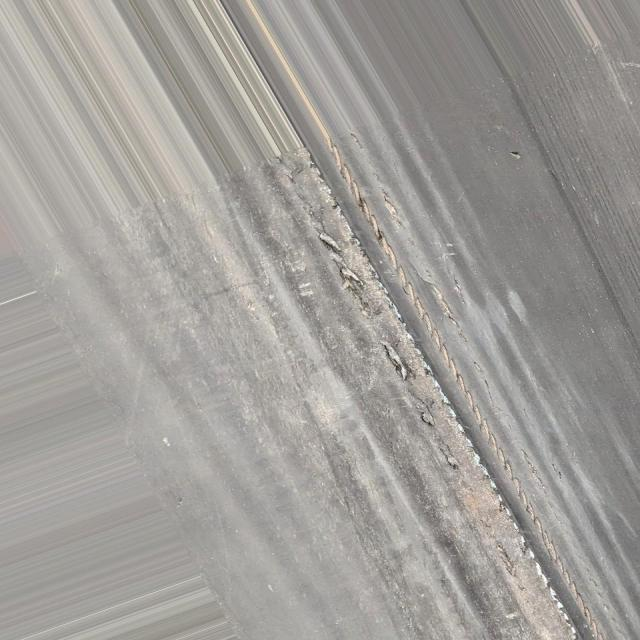Puncture: (496, 140, 530, 164)
Wear: (266, 135, 584, 640)
